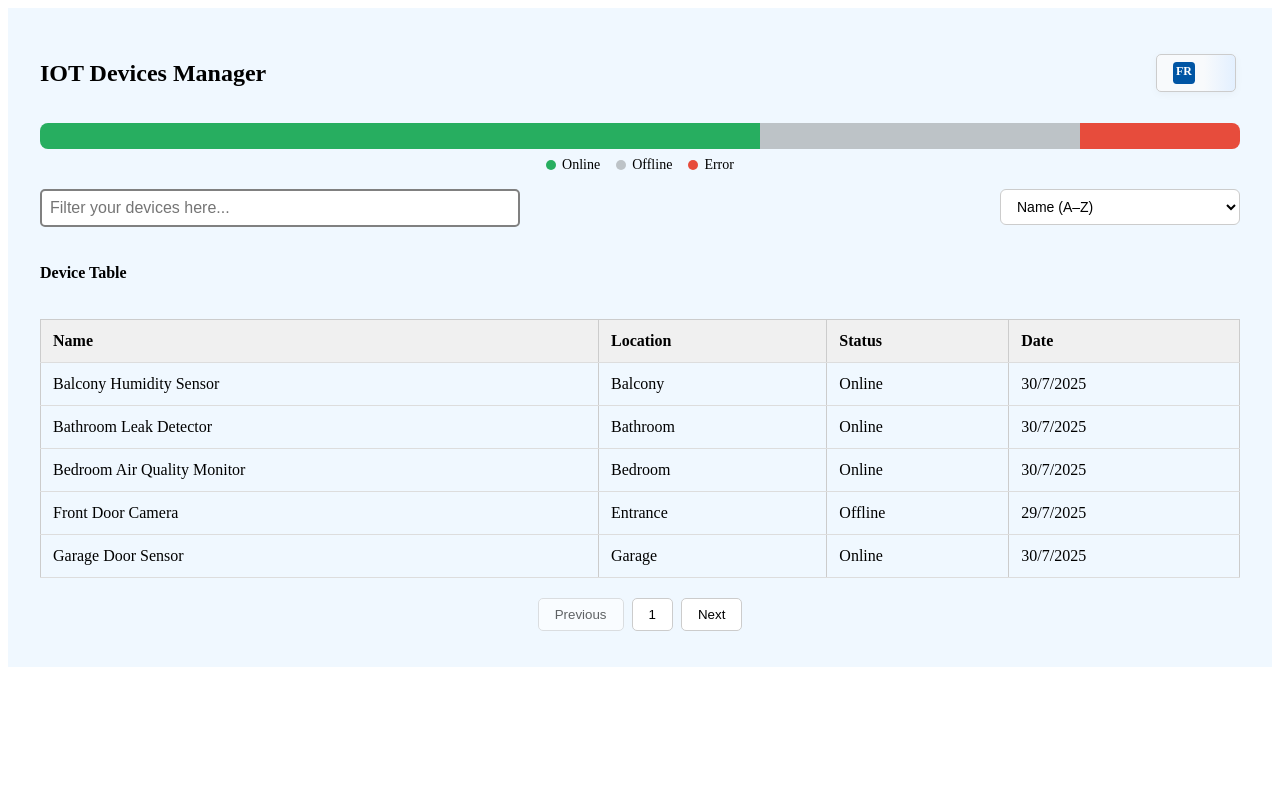
Test: DeviceGrid Page › should disable next page button on last page
This screenshot has width=1280, height=800.
Click the button with aria-label "Go to next page".
click(712, 615)  # box [681,598,742,631]
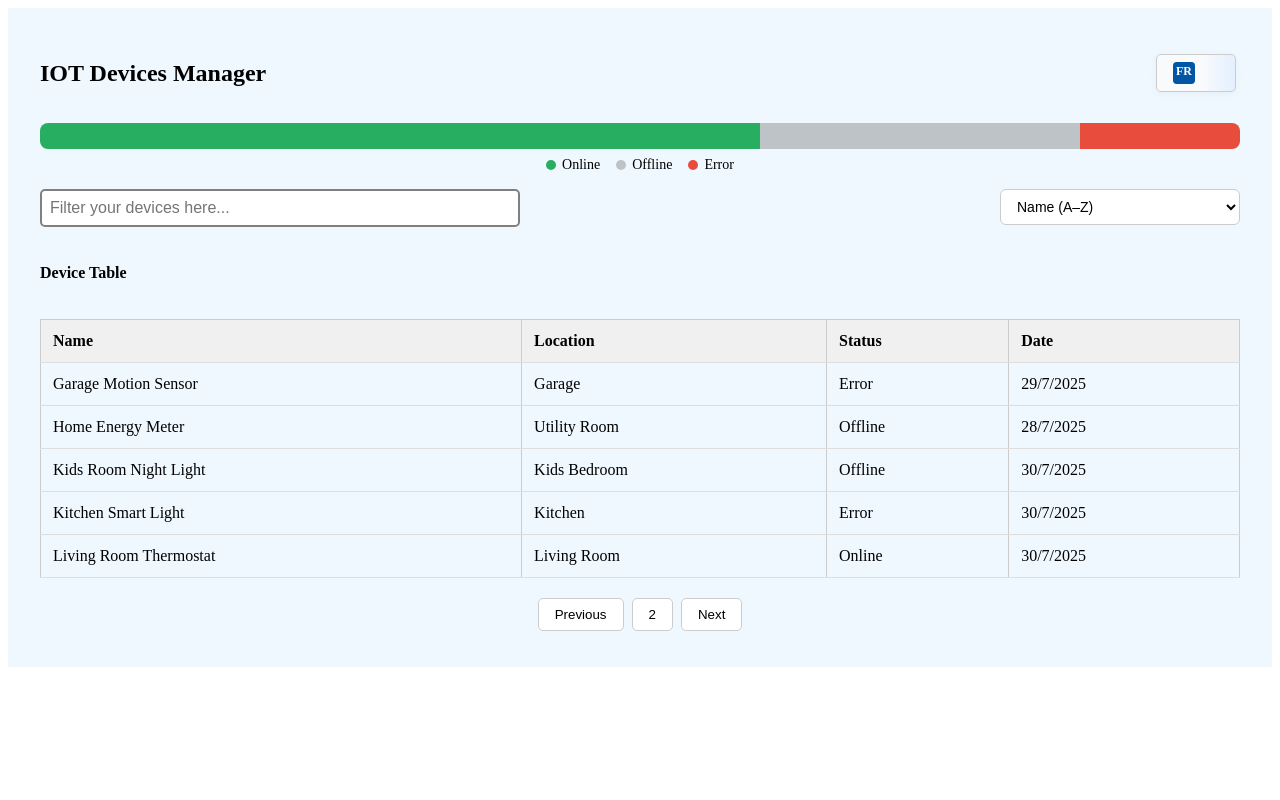
Click the button with aria-label "Go to next page".
click(712, 615)  # box [681,598,742,631]
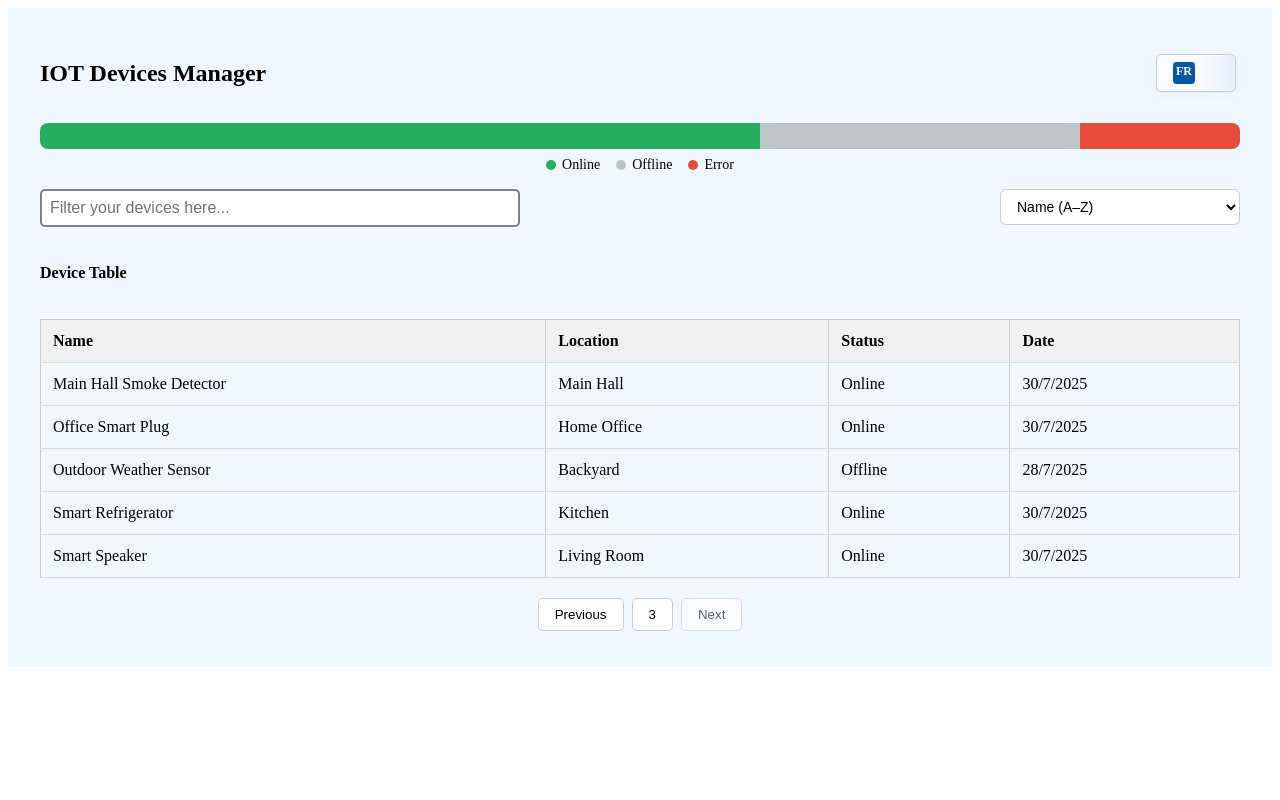
Result: the button with aria-label "Go to next page" is disabled at [681,598,742,631]
